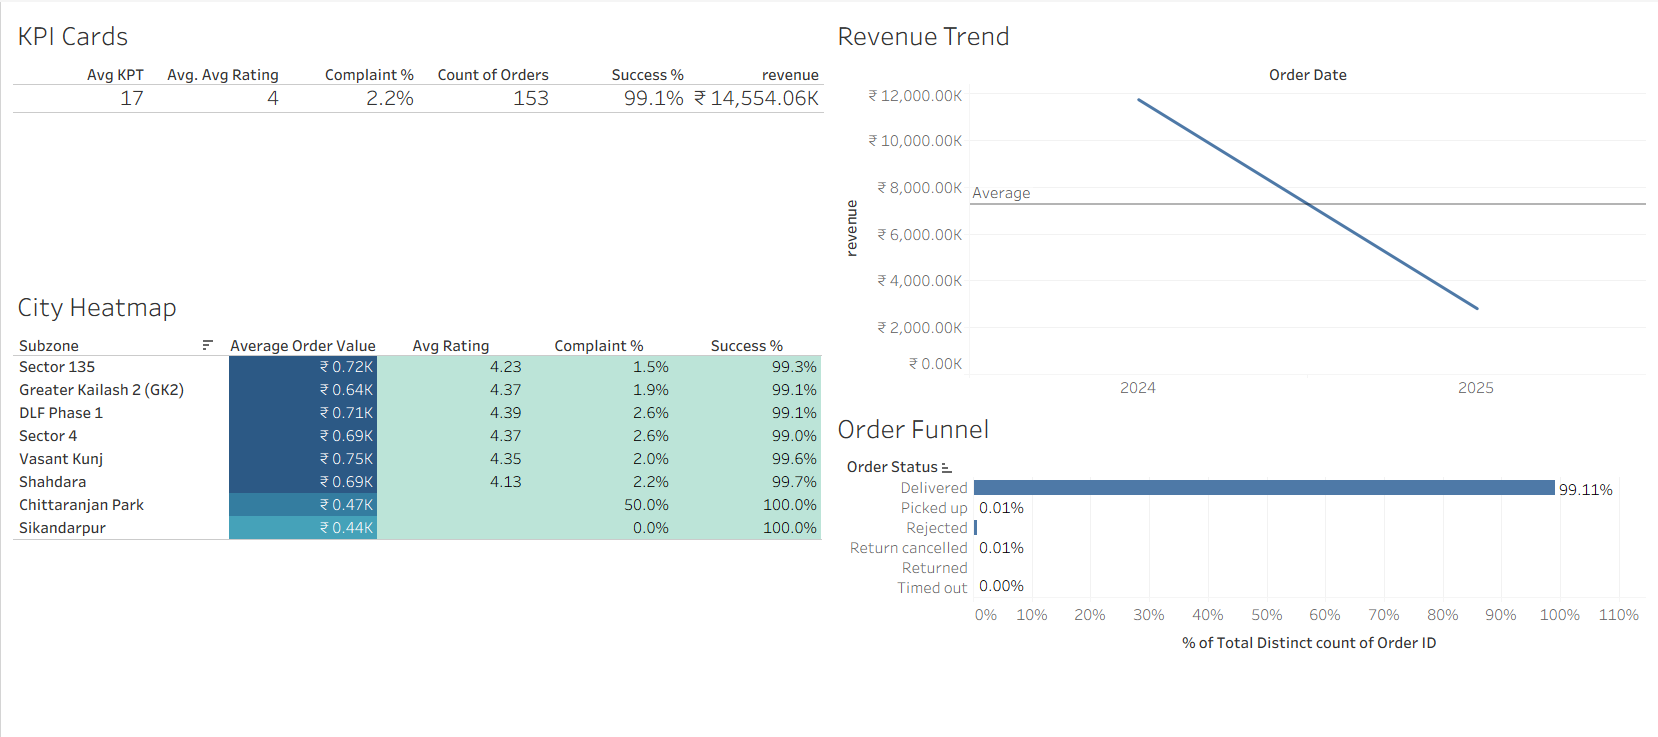

The dashboard page shown, as its layout file describes it:
{"tool":"tableau","page":{"name":"Executive Overview","canvas":[1000,1000],"units":"permille","ordinal":1},"visuals":[{"type":"worksheet","title":"KPI Cards","mark":"Automatic","box":[4.8,10,494.9,338.3]},{"type":"worksheet","title":"Revenue Trend","mark":"Line","rows":["Calculation_1829305934355476487"],"cols":["Order_Date"],"box":[499.7,10,495.5,490]},{"type":"worksheet","title":"City Heatmap","mark":"Square","rows":["Subzone"],"box":[4.8,348.3,494.9,641.7]},{"type":"worksheet","title":"Order Funnel","mark":"Bar","rows":["Order Status"],"cols":["Order ID"],"box":[499.7,500,495.5,490]}]}

Visuals, with their boxes on the dashboard's canvas, which has no fixed pixel size, in thousandths of its width and height (x1, y1, x2, y2). These are canvas units, not pixel positions in the 1658x737 screenshot, which may show the page scaled, cropped or inside an application window:
"KPI Cards" worksheet: region(5, 10, 500, 348)
"Revenue Trend" worksheet (Line marks): region(500, 10, 995, 500)
"City Heatmap" worksheet (Square marks): region(5, 348, 500, 990)
"Order Funnel" worksheet (Bar marks): region(500, 500, 995, 990)
